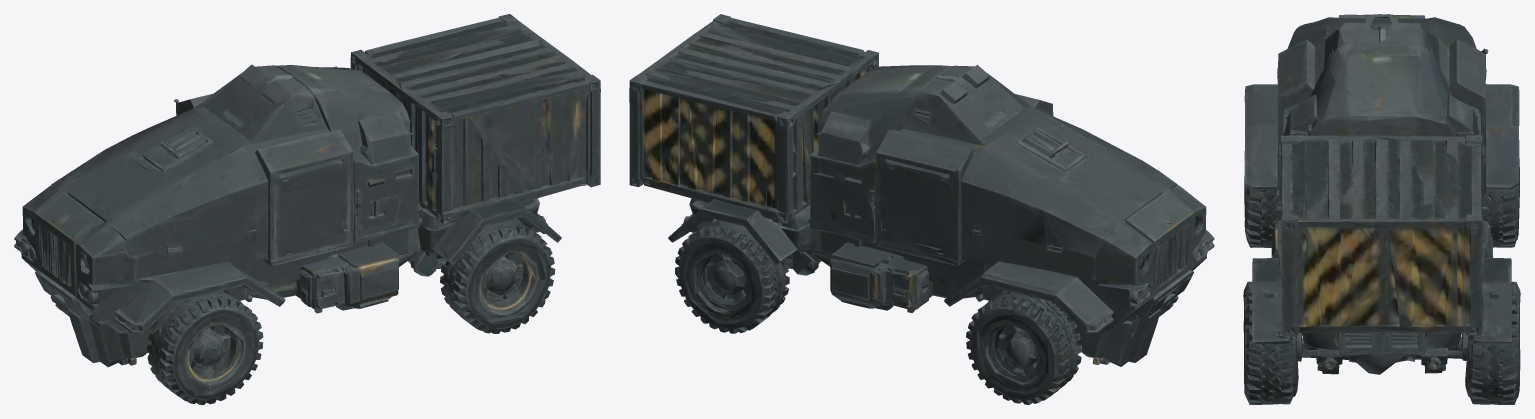
The model's file is mx_veh_hovertruck.glb.
3 renders of one model, left to right at view 1: azimuth 30°, elevation 25°; view 2: azimuth 150°, elevation 25°; view 3: azimuth 270°, elevation 25°, orthographic. The views are drawn at different scales.
Bounding box in the file's own units: 1.9 × 0.924 × 0.8258.
1 material, 1 textured.
